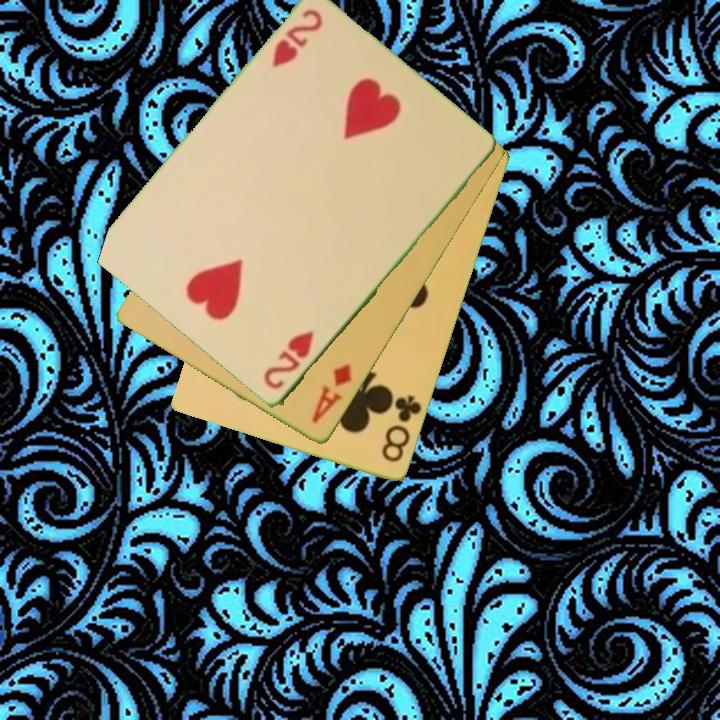2h: (268, 6, 326, 71), (260, 327, 317, 393)
8c: (378, 392, 425, 466)
Ad: (308, 361, 356, 427)
